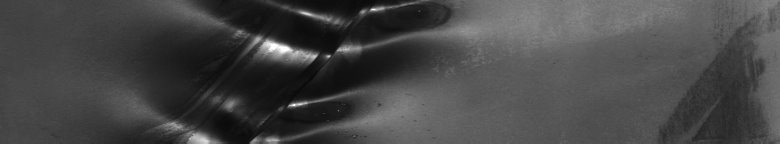ke: (148, 4, 464, 136)
